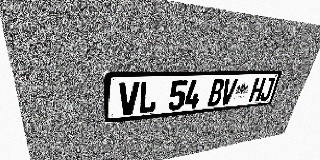4: (183, 80, 203, 109)
5: (168, 80, 188, 111)
B: (207, 79, 226, 107)
H: (248, 78, 266, 102)
J: (259, 77, 276, 101)
L: (138, 81, 158, 114)
V: (119, 82, 139, 116), (220, 79, 238, 105)
